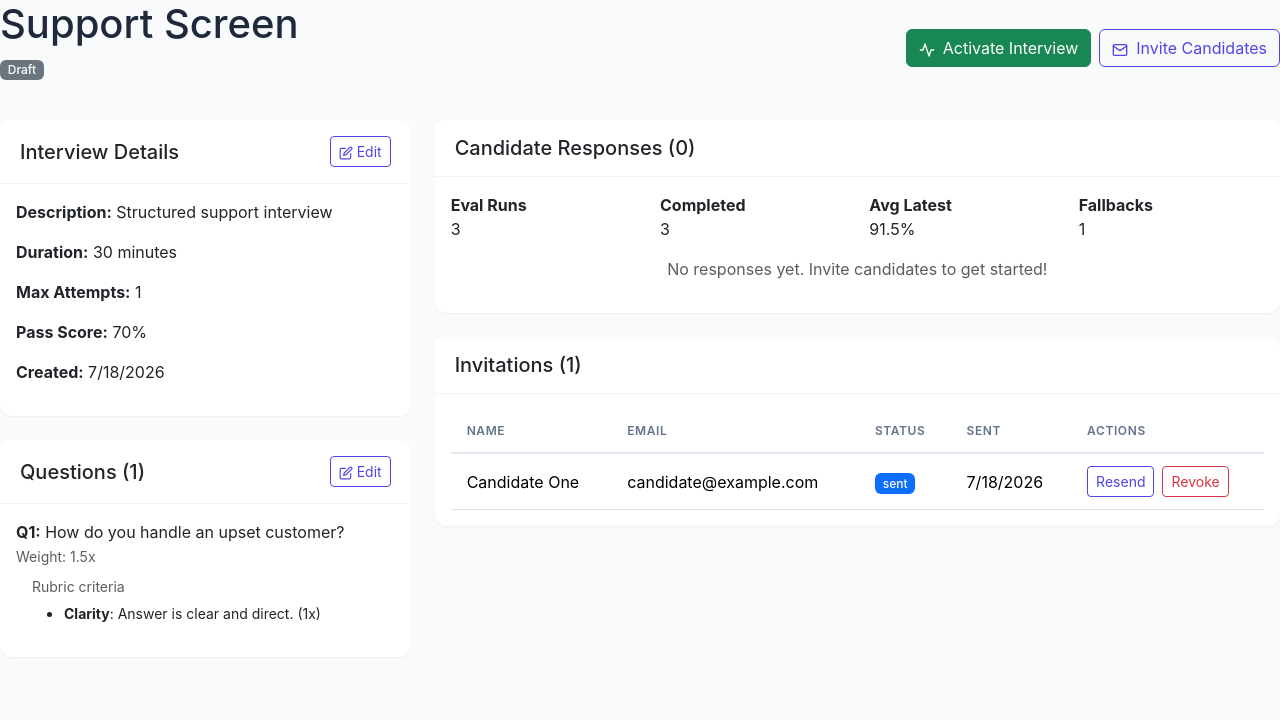
InterviewDetail › previews the invitation email with a custom message
This screenshot has width=1280, height=720.
Expected: the text "Candidate One" is shown, [451,453,611,510]
Click the button "Invite Candidates" at (1190, 48), box [1099,29,1279,67]
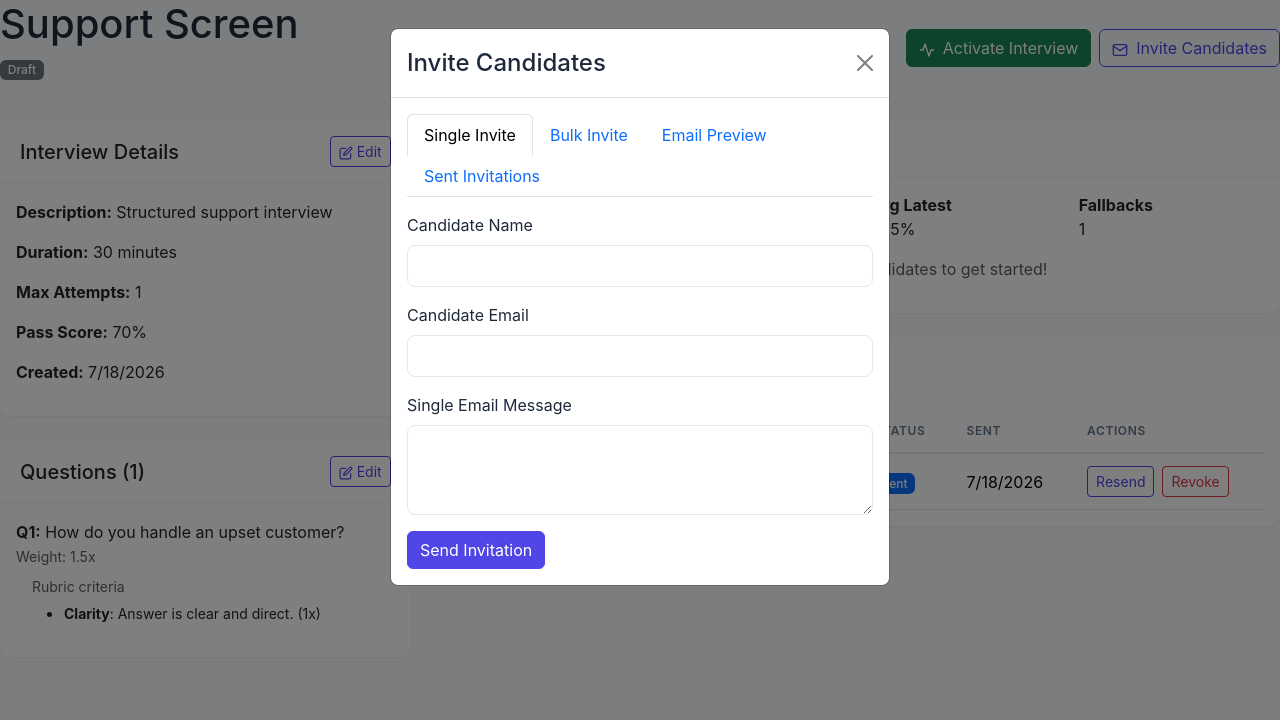
Type "Candidate Preview" into the field labelled "Candidate Name" at (640, 266), box [407,245,873,287]
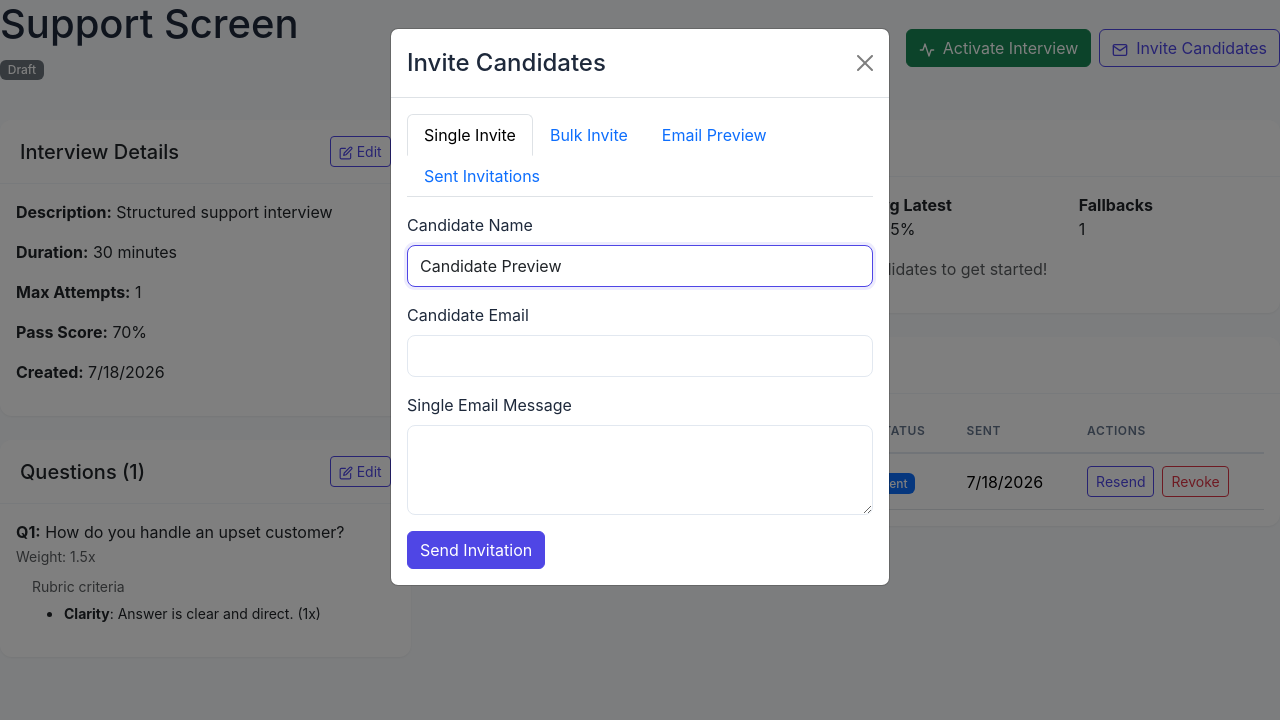
Type "Please use a quiet room." into the text box labelled "Single Email Message" at (640, 470), box [407,425,873,515]
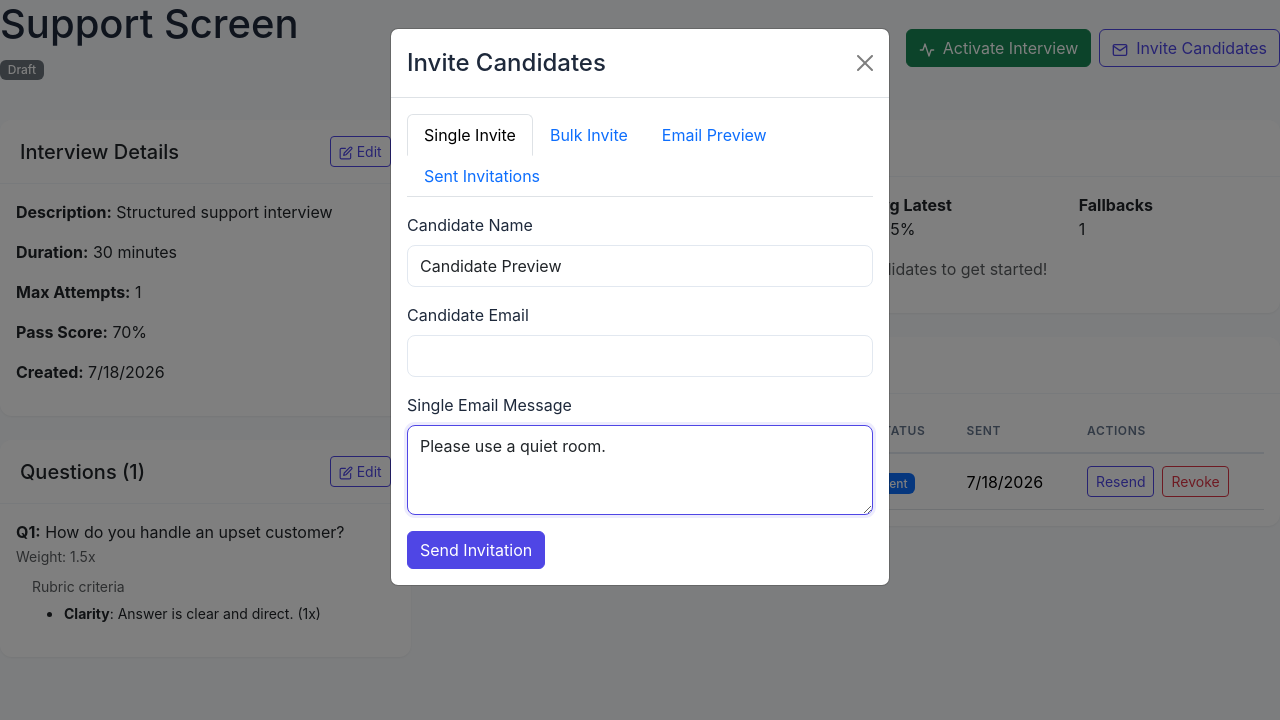
Click the tab "Email Preview" at (714, 135), box [645,114,784,156]
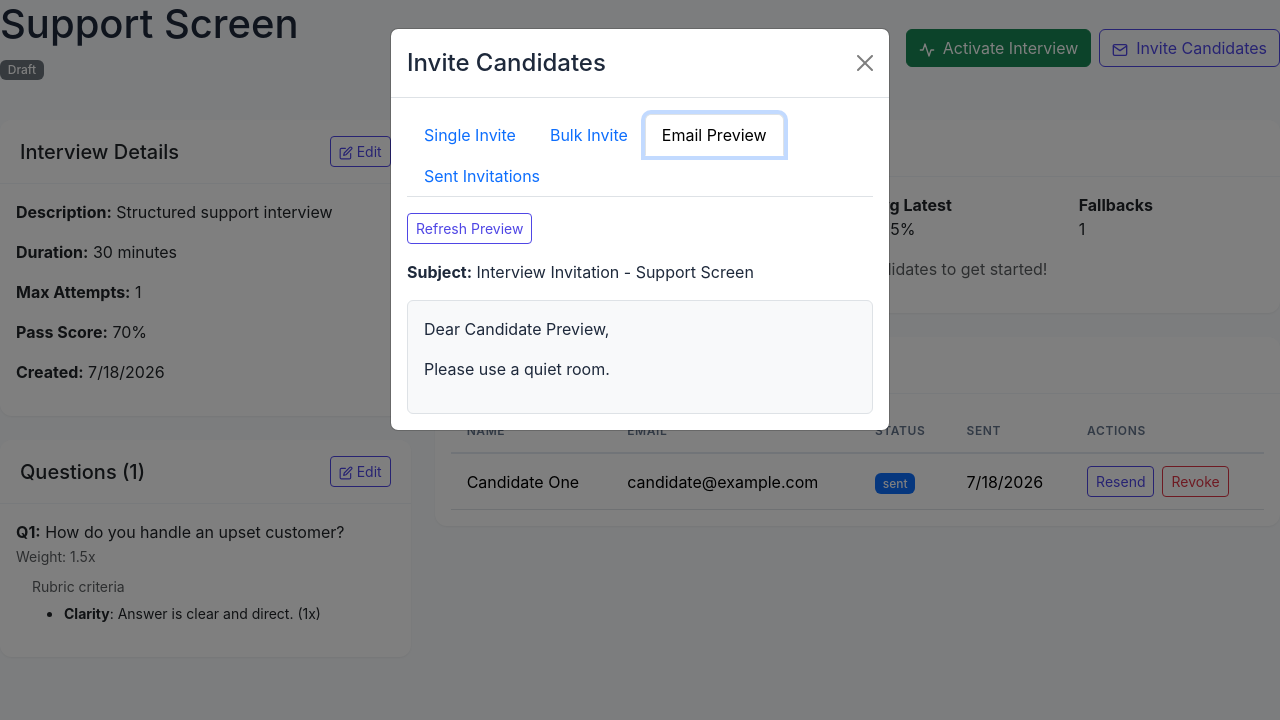
Expected: the text "Subject: Interview Invitation - Support Screen" is shown, [407,262,754,282]
Expected: the text "Please use a quiet room." is shown, [424,359,610,379]
